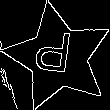P_S: (37, 30, 80, 84)
